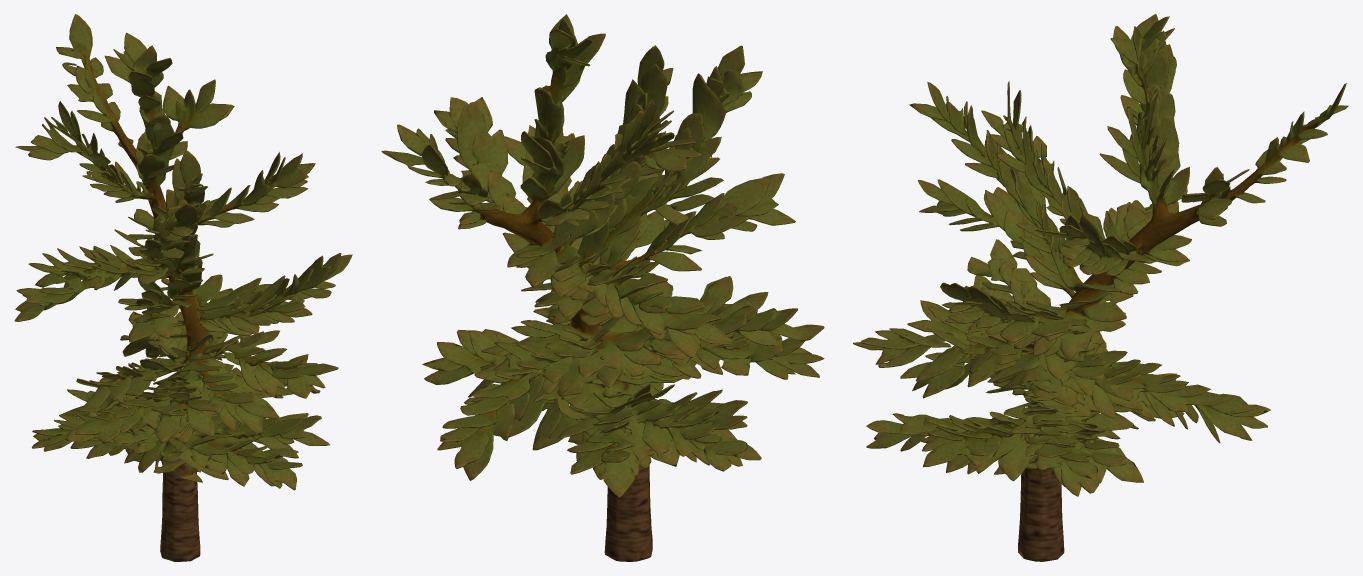
Rendered from tree.glb.
3 renders of one model, left to right at view 1: azimuth 30°, elevation 25°; view 2: azimuth 150°, elevation 25°; view 3: azimuth 270°, elevation 25°, orthographic. The views are drawn at different scales.
Visible parts, largest first — view 1: geometry_0; view 2: geometry_0; view 3: geometry_0.
Boxes of the visible parts, left/top/right/bottom form: geometry_0: left=14, top=14, right=352, bottom=561; geometry_0: left=381, top=14, right=824, bottom=561; geometry_0: left=853, top=14, right=1348, bottom=561.
Bounding box in the file's own units: 0.6289 × 1 × 0.8349.
1 material, 1 textured.
